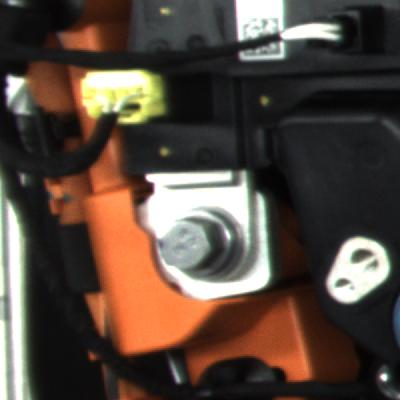nut_b: (149, 191, 261, 297)
